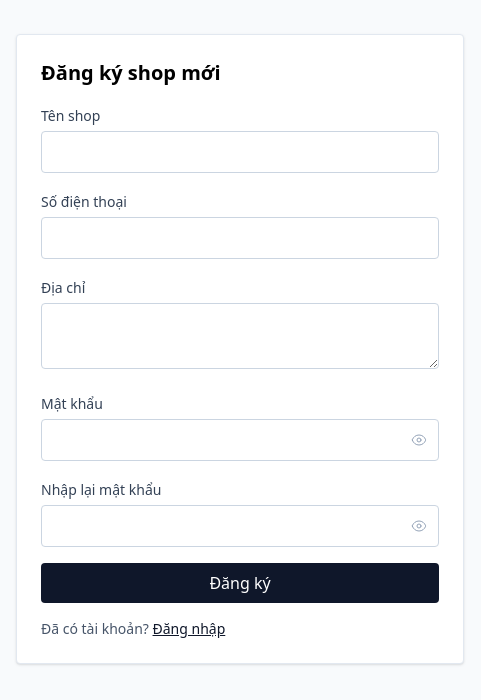
Test: Register page › rejects invalid phone format client-side
This screenshot has width=481, height=700.
In the field labelled "Tên shop": (240, 152) left=41, top=131, right=439, bottom=173, type "Shop A"
In the field labelled "Số điện thoại": (240, 238) left=41, top=217, right=439, bottom=259, type "0900000001"
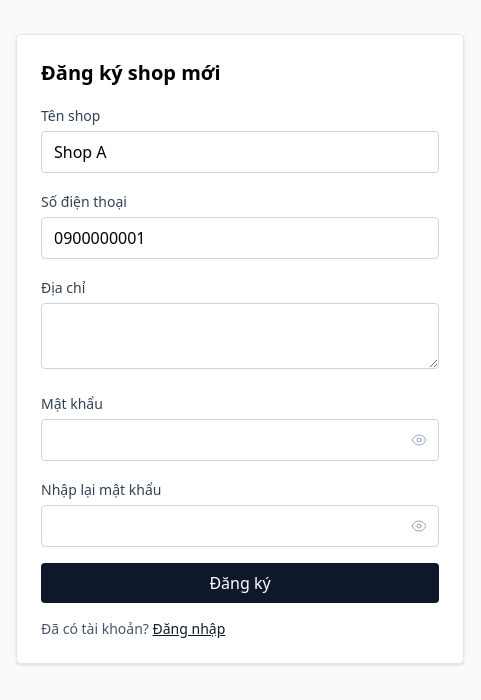
In the text box labelled "Địa chỉ": (240, 336) left=41, top=303, right=439, bottom=369, type "123 Đường ABC, Quận 1"
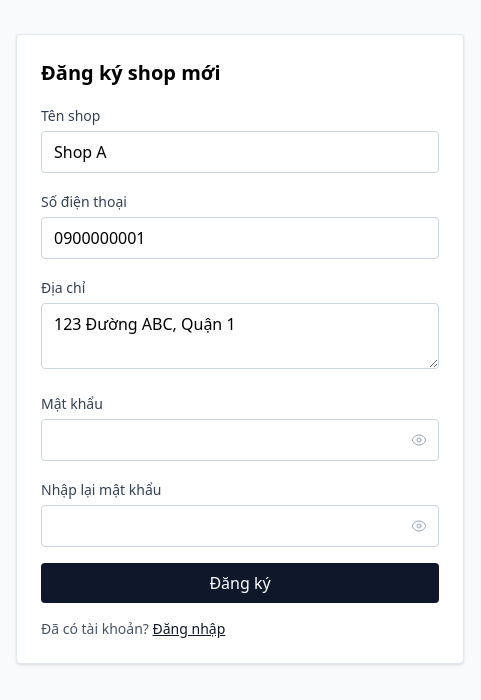
In the password field labelled "Mật khẩu": (240, 440) left=41, top=419, right=439, bottom=461, type "secret1"
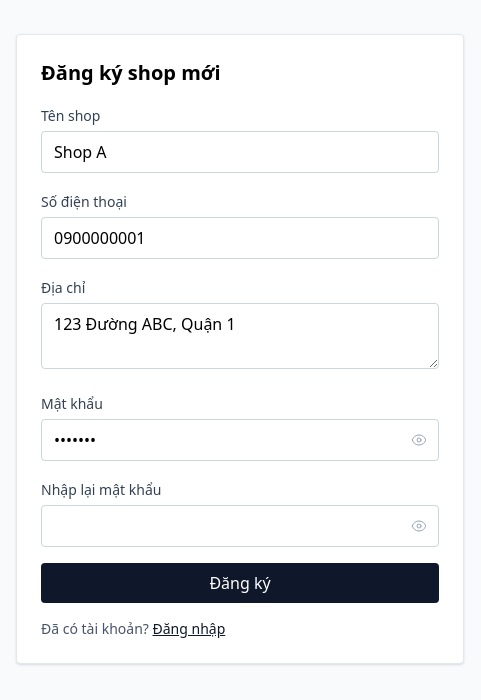
In the password field labelled "Nhập lại mật khẩu": (240, 526) left=41, top=505, right=439, bottom=547, type "secret1"
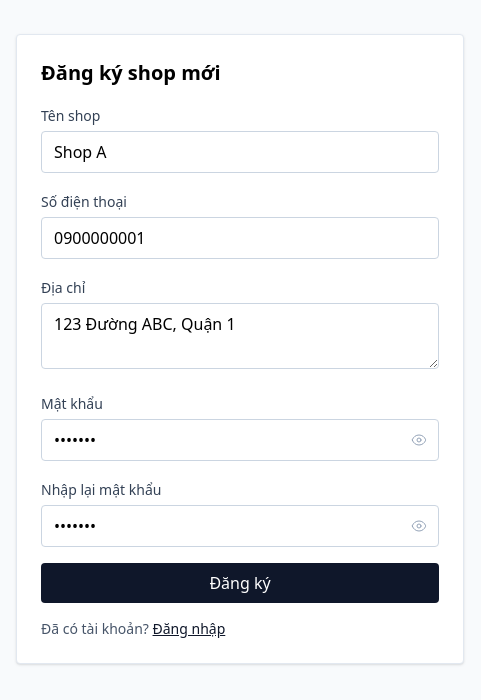
Replace the text in the field labelled "Số điện thoại" with "123": (240, 238) left=41, top=217, right=439, bottom=259
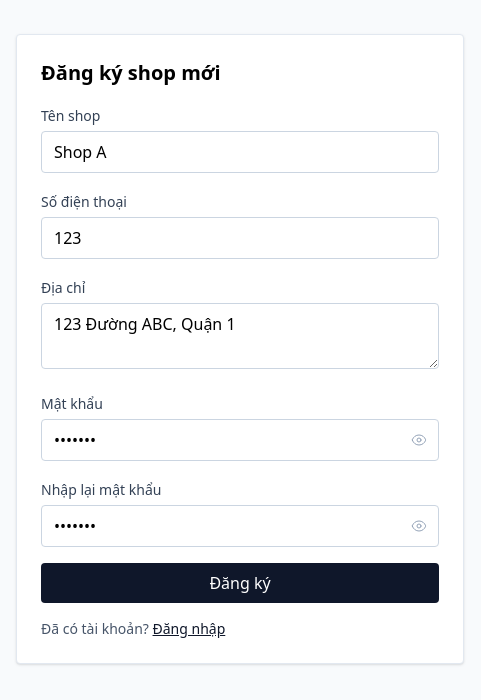
Click the button "Đăng ký": click(240, 583) left=41, top=563, right=439, bottom=603
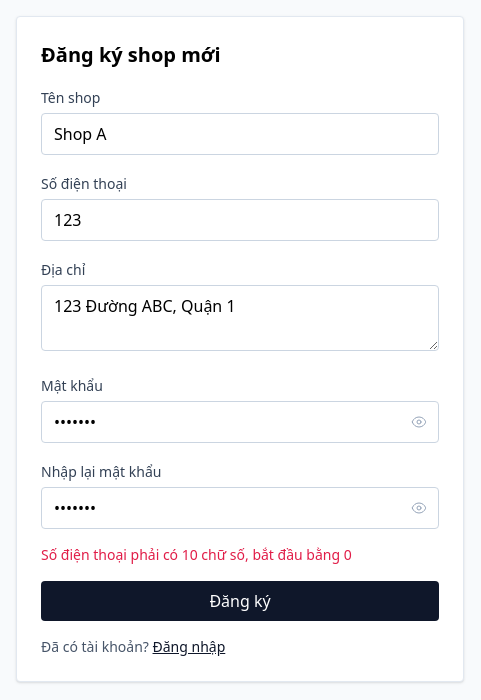
Check: the message shows "10 chữ số", box left=41, top=545, right=352, bottom=564
